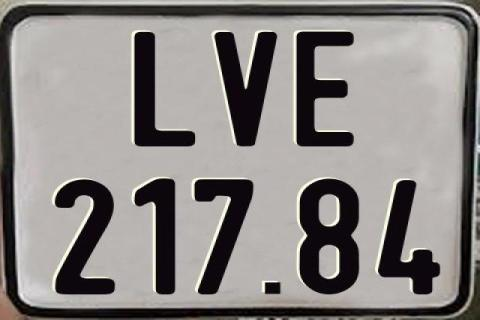0: (375, 180, 443, 296), (192, 178, 257, 298), (53, 178, 114, 298), (298, 177, 359, 293), (134, 179, 178, 299)
E: (296, 29, 354, 149)
L: (134, 31, 196, 146)
V: (214, 30, 281, 146)
